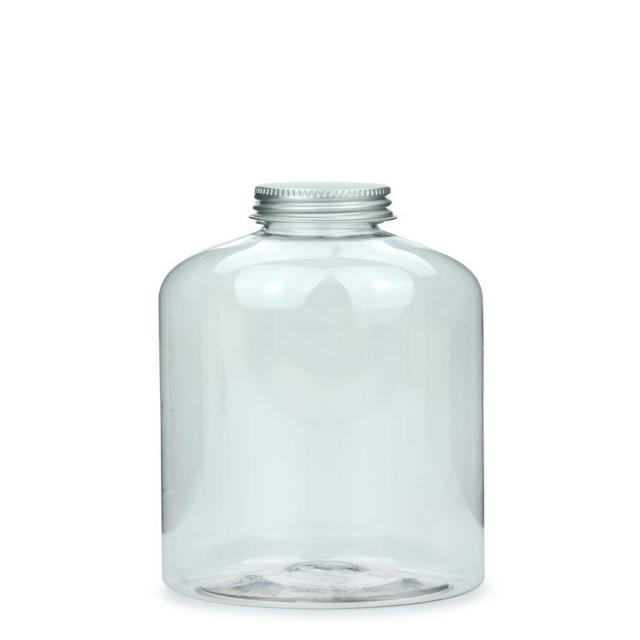others: (124, 179, 531, 612)
